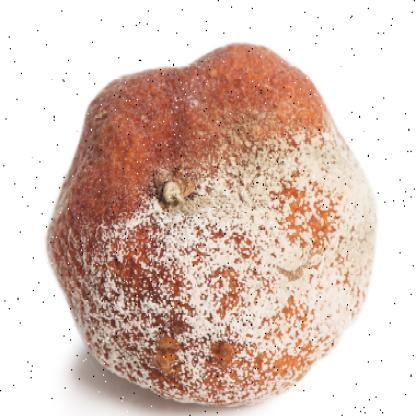rotten: (45, 40, 373, 413)
